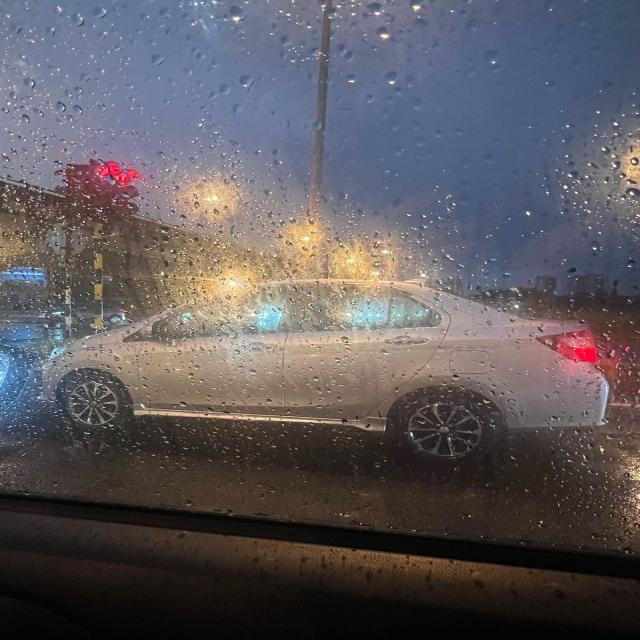PeroduaBezza: (38, 276, 612, 470)
